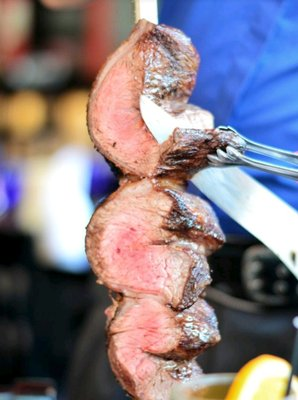curry: (82, 16, 298, 396)
